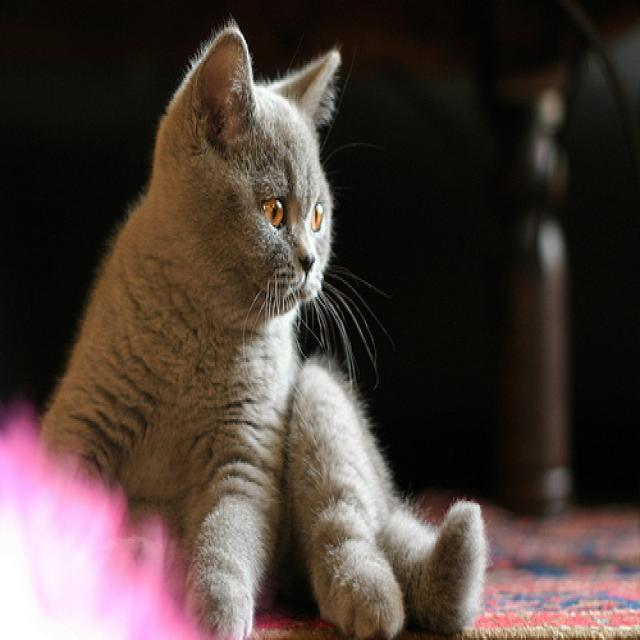British_Shorthair: (163, 23, 339, 314)
